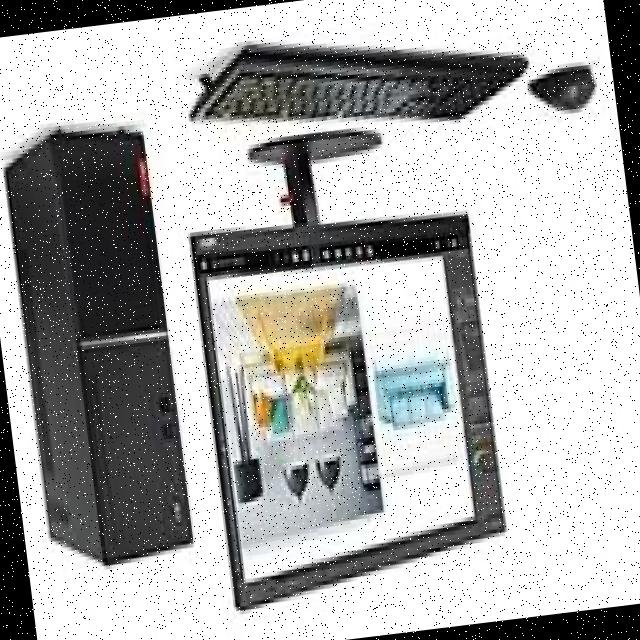Computer: (0, 105, 200, 584)
Monitor: (181, 183, 521, 622)
